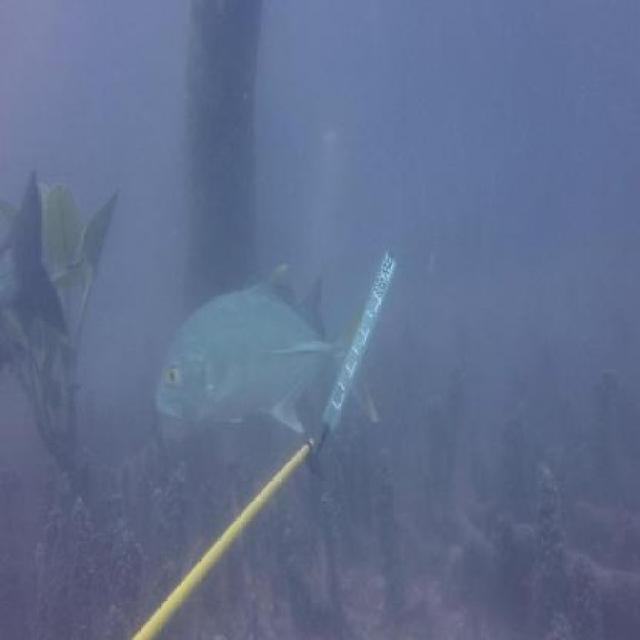Caranx: (149, 254, 380, 438)
acanthopagrus_palmaris: (0, 165, 71, 377), (228, 257, 310, 306)
